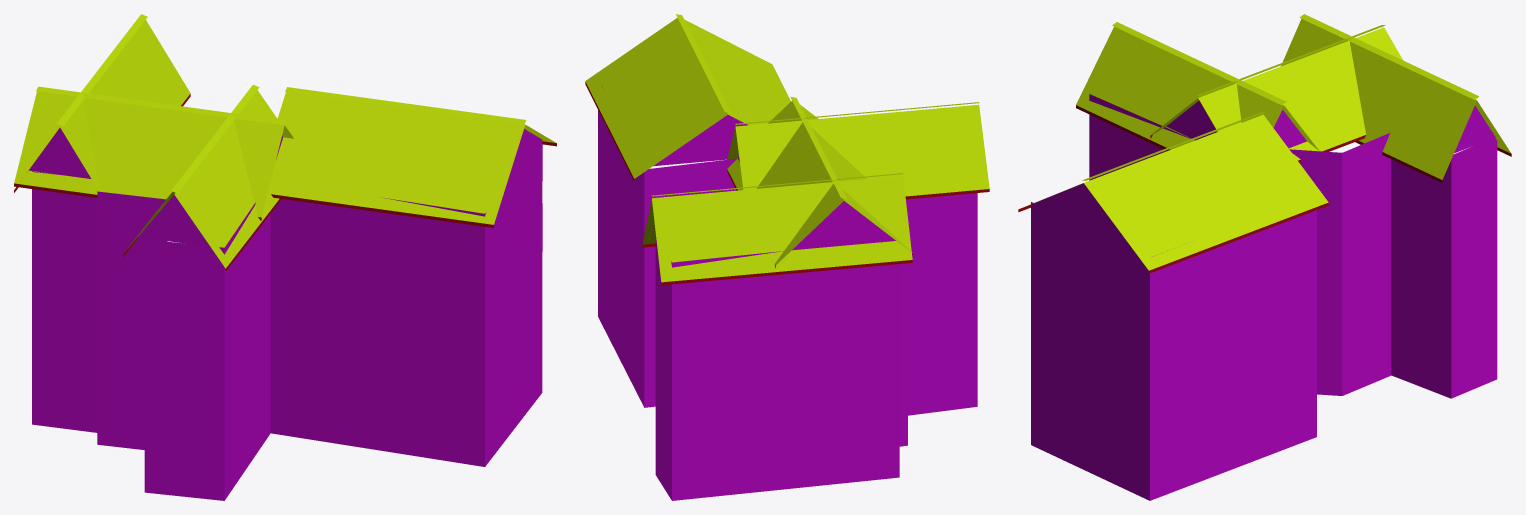
File: dol_35.glb
3 renders of one model, left to right at view 1: azimuth 30°, elevation 25°; view 2: azimuth 150°, elevation 25°; view 3: azimuth 270°, elevation 25°, orthographic. The views are drawn at different scales.
Parts seen in each view (by area): view 1: dol_35; view 2: dol_35; view 3: dol_35.
Boxes of the visible parts, left/top/right/bottom form: dol_35: left=14, top=14, right=556, bottom=500; dol_35: left=585, top=14, right=989, bottom=500; dol_35: left=1018, top=14, right=1511, bottom=500.
Bounding box in the file's own units: 17.68 × 11.73 × 17.66.
